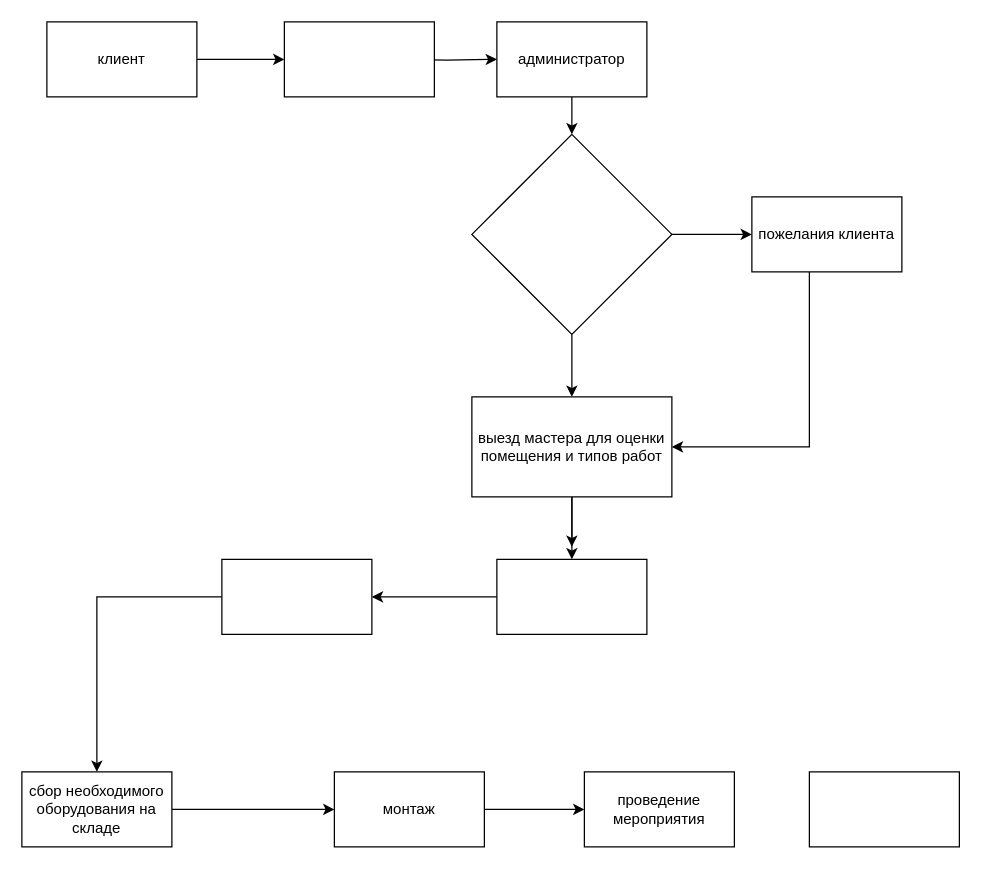
The diagram is 981 pixels wide and 869 high, and some of its shapes have lost their labels. Each missing label, with the centre of its shape:
договорённость о времени , месте и типов работ: the point at 571,233
связь: the point at 358,59
составления договора: the point at 296,596
список оборудования: the point at 571,596
